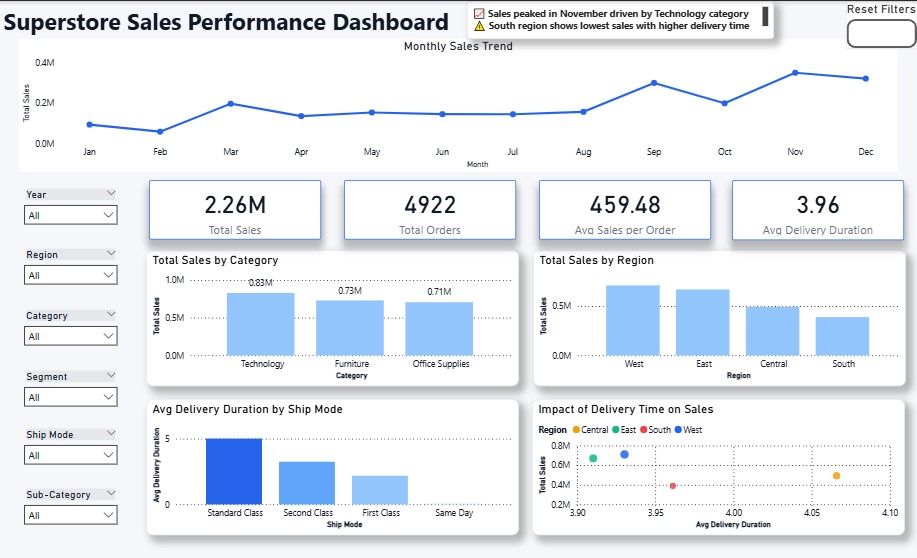

The dashboard page shown, as its layout file describes it:
{"tool":"powerbi","page":{"name":"Page 1","canvas":[1280,778],"ordinal":0},"visuals":[{"type":"textbox","box":[0,0,672.3,66.5],"z":0},{"type":"lineChart","title":"Monthly Sales Trend","fields":{"Category":["DateTable.Month"],"Y":["_KPI.Total Sales"]},"box":[26.7,53.3,1225,185],"z":1000},{"type":"clusteredColumnChart","fields":{"Category":["train.Category"],"Y":["_KPI.Total Sales"]},"box":[203.3,346.7,520,190],"z":2000},{"type":"clusteredColumnChart","fields":{"Y":["_KPI.Total Sales"],"Category":["train.Region"]},"box":[743.3,346.7,520,190],"z":3000},{"type":"columnChart","fields":{"Category":["train.Ship Mode"],"Y":["_KPI.Avg Delivery Duration"]},"box":[203.3,555,520,190],"z":4000},{"type":"scatterChart","title":"Impact of Delivery Time on Sales","fields":{"X":["_KPI.Avg Delivery Duration"],"Y":["_KPI.Total Sales"],"Size":["_KPI.Total Orders"],"Series":["train.Region"]},"box":[741.7,555,520,190],"z":5000},{"type":"slicer","fields":{"Values":["DateTable.Year"]},"box":[23.3,256.7,150,70],"z":6000},{"type":"slicer","fields":{"Values":["train.Region"]},"box":[23.3,340,150,70],"z":7000},{"type":"slicer","fields":{"Values":["train.Category"]},"box":[23.3,425,150,70],"z":8000},{"type":"slicer","fields":{"Values":["train.Ship Mode"]},"box":[23.3,591.7,150,70],"z":9000},{"type":"slicer","fields":{"Values":["train.Sub-Category"]},"box":[23.3,675,150,70],"z":10000},{"type":"slicer","fields":{"Values":["train.Segment"]},"box":[23.3,510,150,70],"z":11000},{"type":"textbox","box":[651.7,0,428.3,53.3],"z":12000},{"type":"actionButton","title":"Reset Filters","box":[1180,0,100,66.7],"z":13000},{"type":"card","fields":{"Values":["DateTable.Total Sales"]},"box":[208.3,250,240,83.3],"z":14000},{"type":"card","fields":{"Values":["_KPI.Total Orders"]},"box":[480,250,240,83.3],"z":15000},{"type":"card","fields":{"Values":["_KPI.Avg Sales per Order"]},"box":[751,250,240,83.3],"z":16000},{"type":"card","fields":{"Values":["_KPI.Avg Delivery Duration"]},"box":[1020,250,240,84],"z":17000}]}

Visuals, with their boxes in screenshot pixels (x1, y1, x2, y2), scaled from the page's 1280x778 canvas onto the 917x558 screenshot:
textbox: (0,0,482,48)
"Monthly Sales Trend" lineChart: (19,38,897,171)
clusteredColumnChart - train.Category x _KPI.Total Sales: (146,249,518,385)
clusteredColumnChart - _KPI.Total Sales x train.Region: (533,249,905,385)
columnChart - train.Ship Mode x _KPI.Avg Delivery Duration: (146,398,518,534)
"Impact of Delivery Time on Sales" scatterChart: (531,398,904,534)
slicer - DateTable.Year: (17,184,124,234)
slicer - train.Region: (17,244,124,294)
slicer - train.Category: (17,305,124,355)
slicer - train.Ship Mode: (17,424,124,475)
slicer - train.Sub-Category: (17,484,124,534)
slicer - train.Segment: (17,366,124,416)
textbox: (467,0,774,38)
"Reset Filters" actionButton: (845,0,916,48)
card - DateTable.Total Sales: (149,179,321,239)
card - _KPI.Total Orders: (344,179,516,239)
card - _KPI.Avg Sales per Order: (538,179,710,239)
card - _KPI.Avg Delivery Duration: (731,179,903,240)
